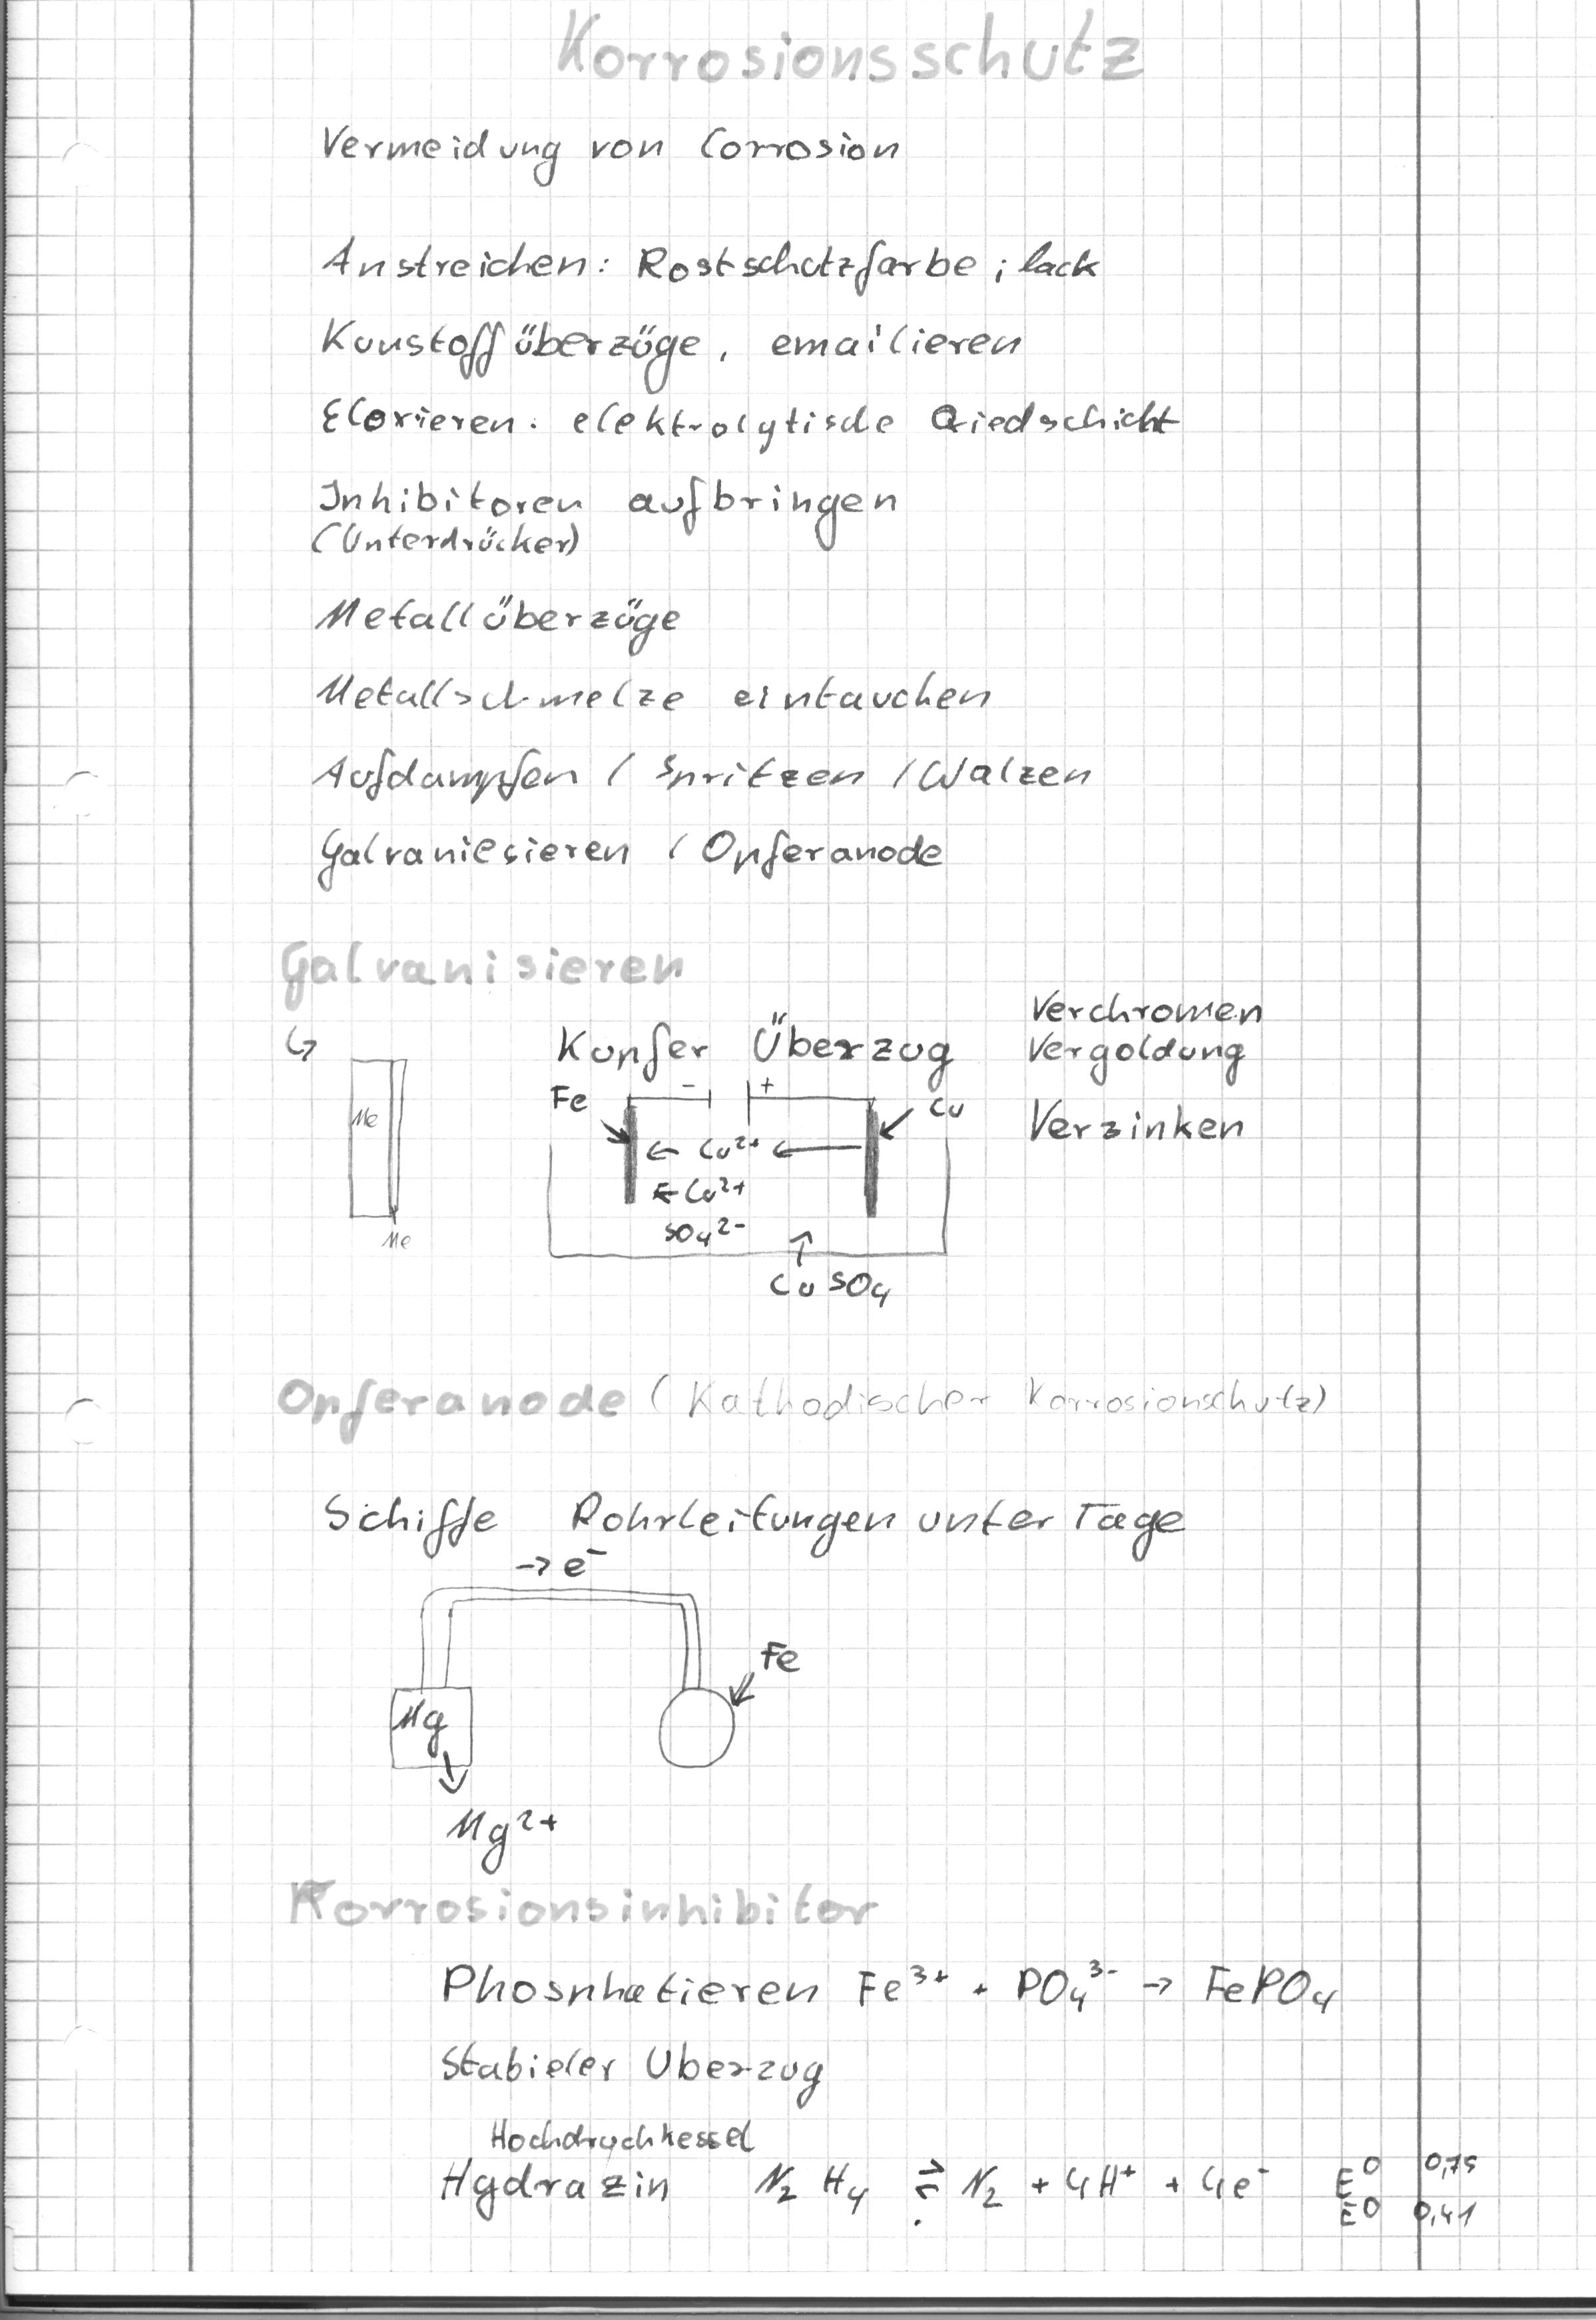word: (295, 224, 1191, 464), (292, 727, 1098, 904), (298, 583, 998, 730), (312, 1480, 1191, 1586), (427, 2035, 884, 2232), (294, 464, 910, 580), (425, 1946, 1346, 2024), (904, 2124, 1492, 2245), (304, 100, 924, 204), (535, 998, 977, 1127), (1016, 978, 1270, 1158), (636, 1118, 769, 1265), (756, 1216, 910, 1324)
